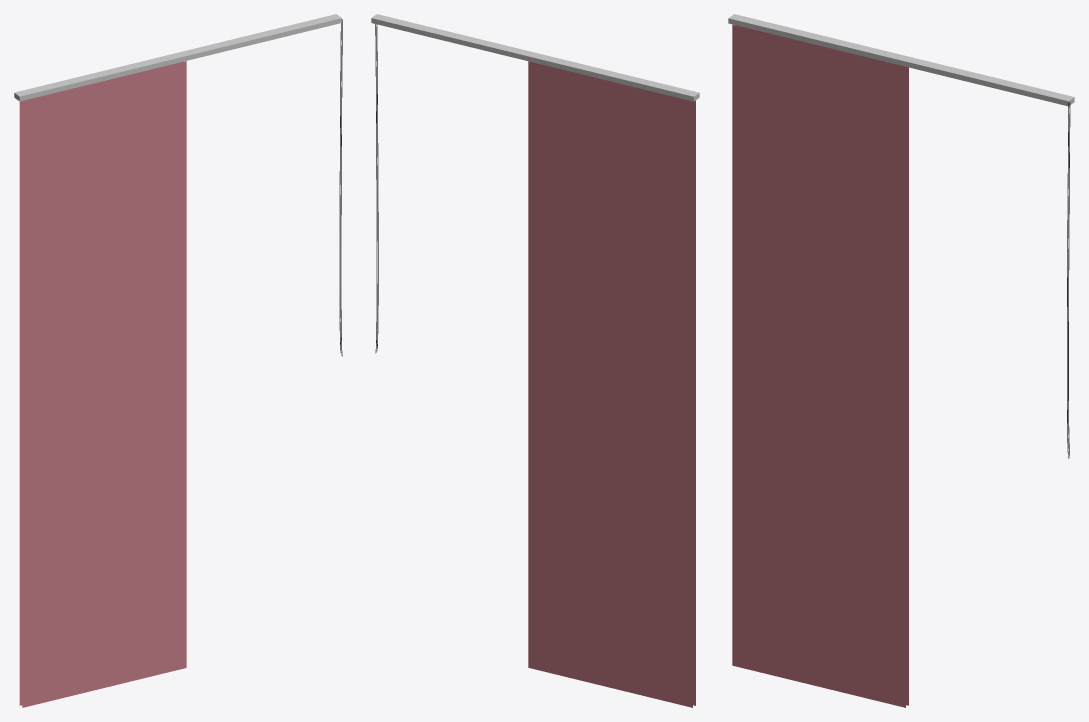
File: JapaneseCurtain3.fbx
The picture shows the model from 3 angles, left to right: view 1: azimuth 30°, elevation 25°; view 2: azimuth 150°, elevation 25°; view 3: azimuth 330°, elevation 25°; orthographic projection. The views are drawn at different scales.
Visible parts, largest first — view 1: String_2.001; view 2: String_2.001; view 3: String_2.001.
Part boxes in pixels (x1,y1,x2,y2): String_2.001: (14, 14, 342, 707); String_2.001: (371, 14, 699, 707); String_2.001: (728, 14, 1074, 707).
Size of the model in its own units: 100 by 182 by 3.2.
